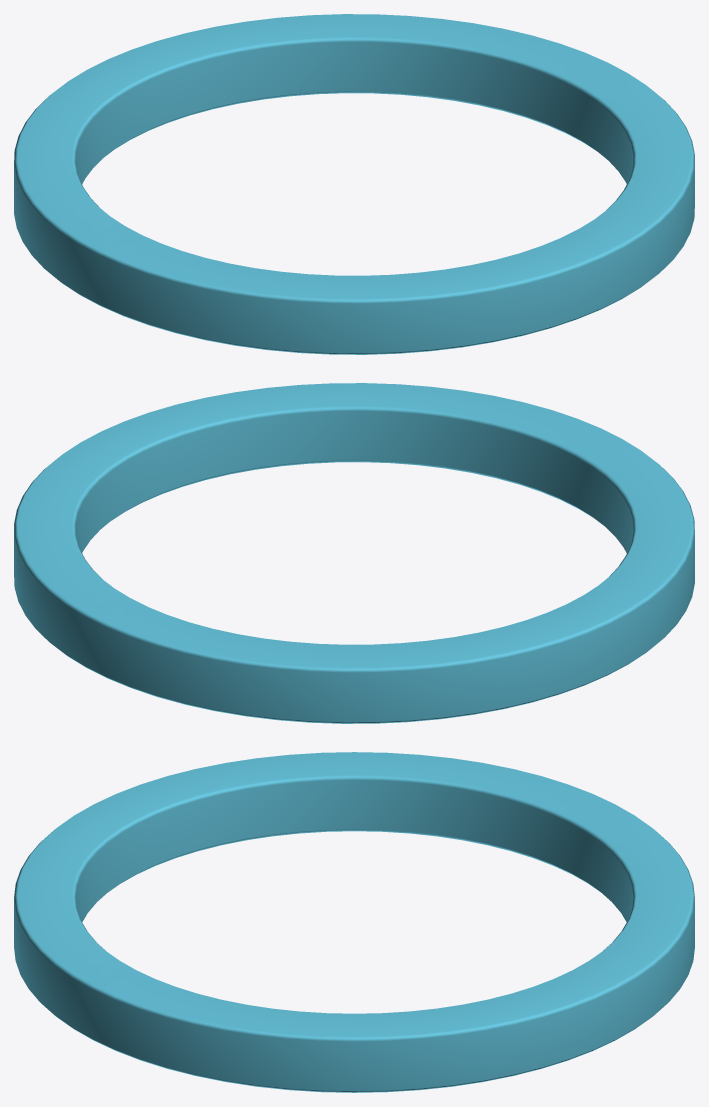
3 views of the same model, one above another, from view 1: azimuth 30°, elevation 25°; view 2: azimuth 150°, elevation 25°; view 3: azimuth 270°, elevation 25° (orthographic).
Parts seen in each view (by area): view 1: seal_body; view 2: seal_body; view 3: seal_body.
Boxes of the visible parts, x1,y1,x2,y2 form: seal_body: [14, 14, 694, 354]; seal_body: [14, 383, 694, 723]; seal_body: [14, 752, 694, 1092].
Bounding box in the file's own units: 0.0698 × 0.00635 × 0.0698.
